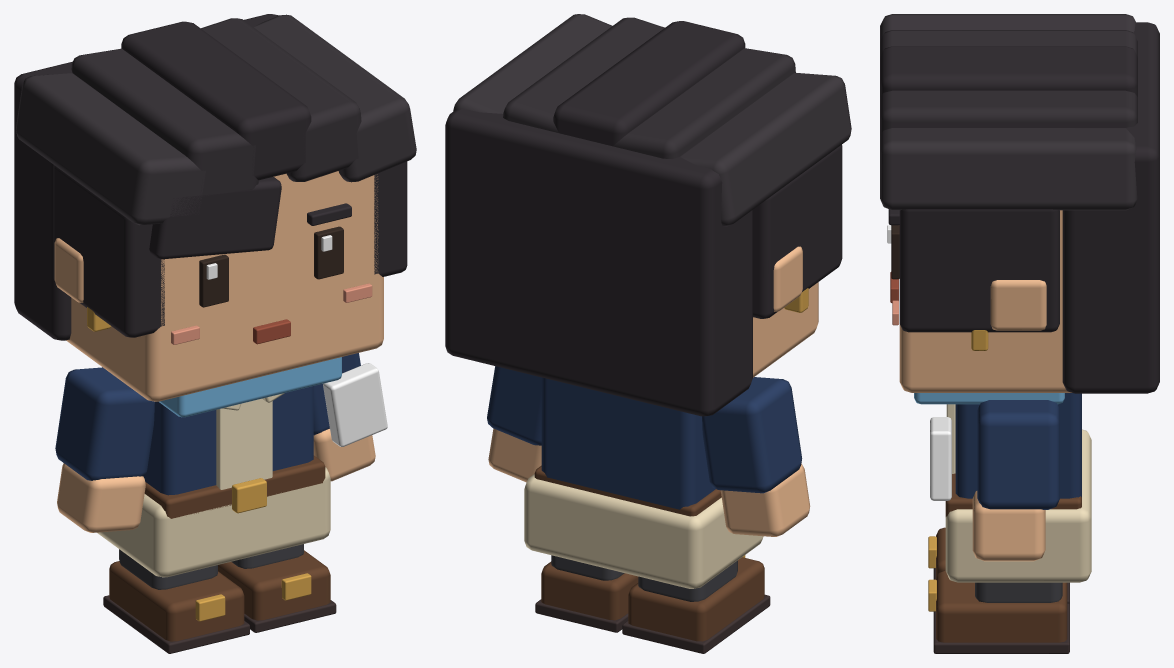
Rendered from NPC04_receptionist.glb.
The picture shows the model from 3 angles, left to right: view 1: azimuth 30°, elevation 25°; view 2: azimuth 150°, elevation 25°; view 3: azimuth 270°, elevation 25°; orthographic projection. The views are drawn at different scales.
Parts seen in each view (by area): view 1: Face, HairLock, _MeshInstance3D_68, Skirt, SideHair, _MeshInstance3D_67, Sleeve, HairBack, _MeshInstance3D_70, Jacket, _MeshInstance3D_69, Fringe (+22 smaller); view 2: HairBack, Jacket, Skirt, HairLock, _MeshInstance3D_68, SideHair, Sleeve, _MeshInstance3D_67, _MeshInstance3D_69, Boot, _MeshInstance3D_70, Hand (+10 smaller); view 3: HairBack, _MeshInstance3D_70, _MeshInstance3D_71, _MeshInstance3D_68, Face, _MeshInstance3D_69, Sleeve2, Skirt, Boot2, Jacket, _MeshInstance3D_67, HairLock (+9 smaller).
Boxes of the visible parts, left/top/right/bottom form: Face: left=66, top=171, right=383, bottom=401; HairLock: left=16, top=73, right=205, bottom=225; _MeshInstance3D_68: left=121, top=21, right=311, bottom=180; Skirt: left=97, top=467, right=330, bottom=577; SideHair: left=53, top=165, right=164, bottom=337; _MeshInstance3D_67: left=71, top=48, right=258, bottom=196; Sleeve: left=55, top=367, right=154, bottom=480; HairBack: left=14, top=14, right=278, bottom=340; _MeshInstance3D_70: left=253, top=14, right=416, bottom=182; Jacket: left=144, top=386, right=313, bottom=495; _MeshInstance3D_69: left=201, top=18, right=361, bottom=181; Fringe: left=149, top=177, right=281, bottom=259; HairBack: left=445, top=108, right=752, bottom=416; Jacket: left=541, top=377, right=715, bottom=509; Skirt: left=524, top=474, right=763, bottom=588; HairLock: left=680, top=73, right=851, bottom=226; _MeshInstance3D_68: left=553, top=21, right=745, bottom=146; SideHair: left=753, top=144, right=842, bottom=318; Sleeve: left=702, top=377, right=802, bottom=493; _MeshInstance3D_67: left=613, top=48, right=795, bottom=158; _MeshInstance3D_69: left=503, top=17, right=664, bottom=132; Boot: left=628, top=557, right=764, bottom=641; _MeshInstance3D_70: left=453, top=14, right=612, bottom=113; Hand: left=720, top=463, right=810, bottom=536; HairBack: left=1062, top=22, right=1159, bottom=393; _MeshInstance3D_70: left=880, top=128, right=1137, bottom=210; _MeshInstance3D_71: left=899, top=209, right=1059, bottom=332; _MeshInstance3D_68: left=880, top=46, right=1137, bottom=96; Face: left=899, top=210, right=1071, bottom=392; _MeshInstance3D_69: left=880, top=90, right=1137, bottom=135; Sleeve2: left=977, top=400, right=1059, bottom=509; Skirt: left=945, top=429, right=1091, bottom=582; Boot2: left=936, top=570, right=1067, bottom=642; Jacket: left=955, top=393, right=1081, bottom=498; _MeshInstance3D_67: left=880, top=30, right=1137, bottom=57; HairLock: left=880, top=14, right=1135, bottom=41.
Bounding box in the file's own units: 0.7116 × 1.25 × 0.575.
